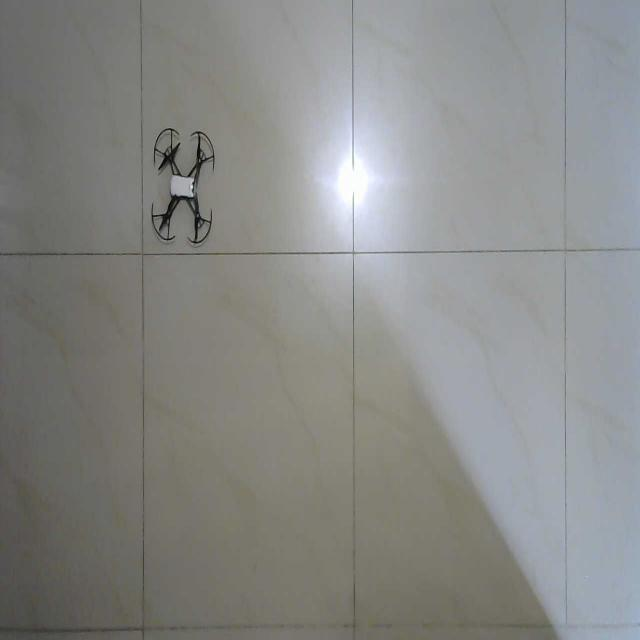drone: (150, 126, 215, 244)
